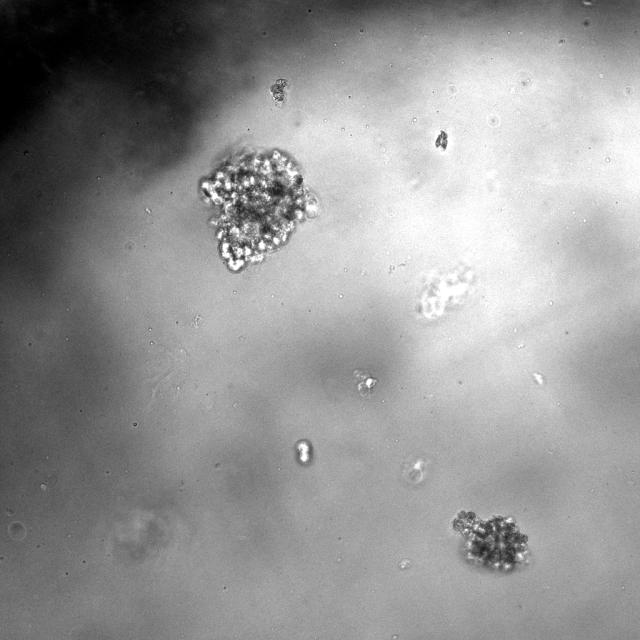organoid: (199, 149, 317, 272), (452, 512, 528, 570), (417, 263, 474, 321), (353, 370, 376, 395), (294, 438, 312, 465), (269, 78, 288, 103)
